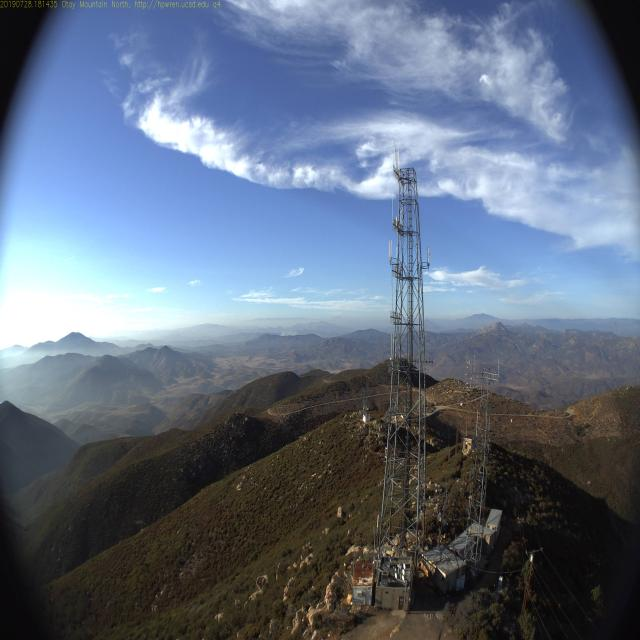smoke: (278, 322, 299, 345)
